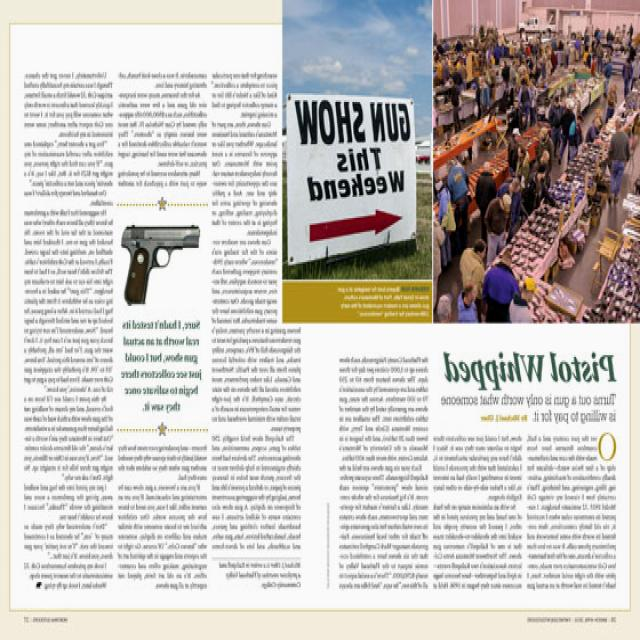pistol: (124, 222, 203, 310)
